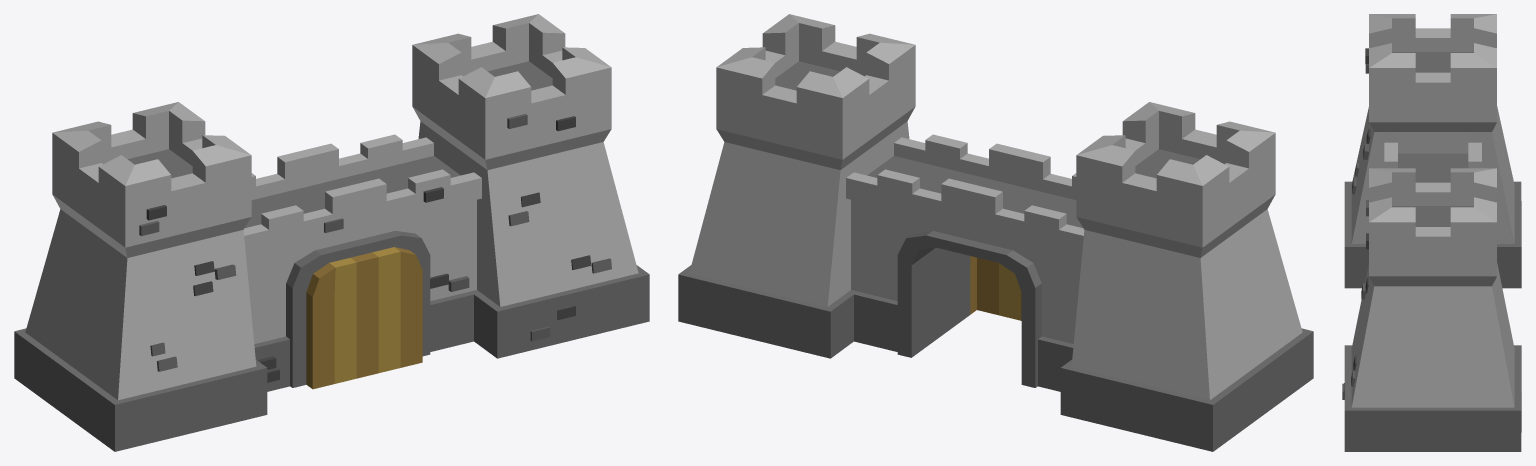
Rendered from CastleClosed.fbx.
3 views of the same model, side by side, from view 1: azimuth 30°, elevation 25°; view 2: azimuth 150°, elevation 25°; view 3: azimuth 270°, elevation 25° (orthographic). The views are drawn at different scales.
Parts seen in each view (by area): view 1: Cube.001; view 2: Cube.001; view 3: Cube.001.
Boxes of the visible parts, x1,y1,x2,y2 form: Cube.001: [14, 14, 649, 451]; Cube.001: [678, 14, 1313, 451]; Cube.001: [1342, 14, 1521, 451].
Bounding box in the file's own units: 10.76 × 4.92 × 3.56.
